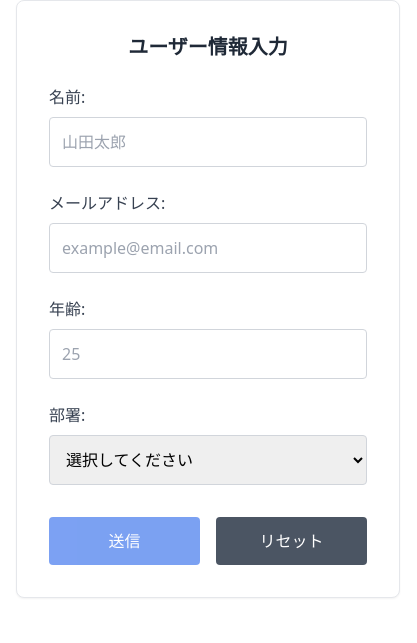
it: UserForm コンポーネント › バリデーション › メールアドレスのバリデーション › メールアドレスが空の場合エラーメッセージが表示される
Type "test" into the field with test id "email-input" at (208, 248), box [49,223,367,273]
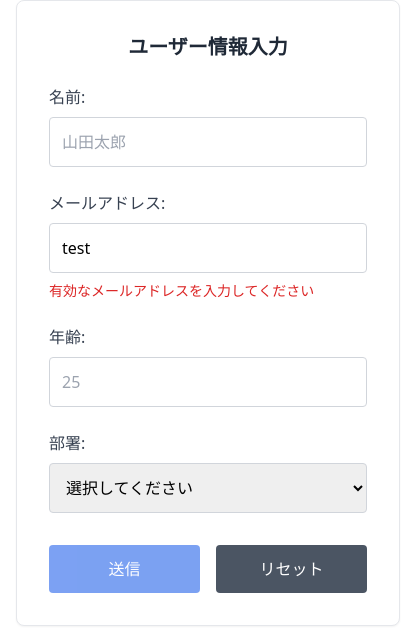
Clear the field with test id "email-input" at (208, 248), box [49,223,367,273]
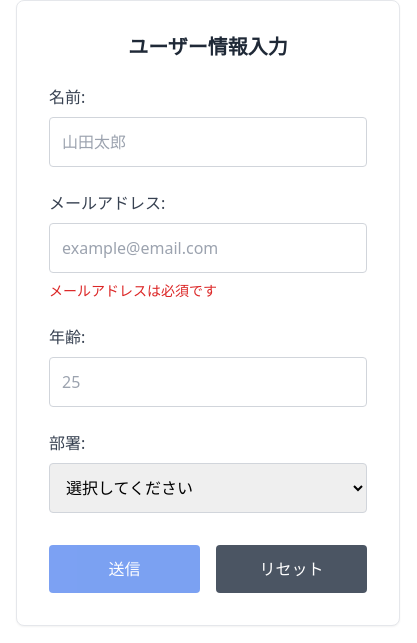
expect the text with test id "email-error" reads "メールアドレスは必須です": met, box [49,281,217,300]
